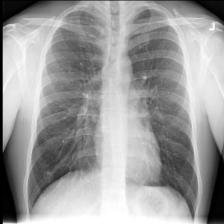normal: (23, 1, 203, 221)
